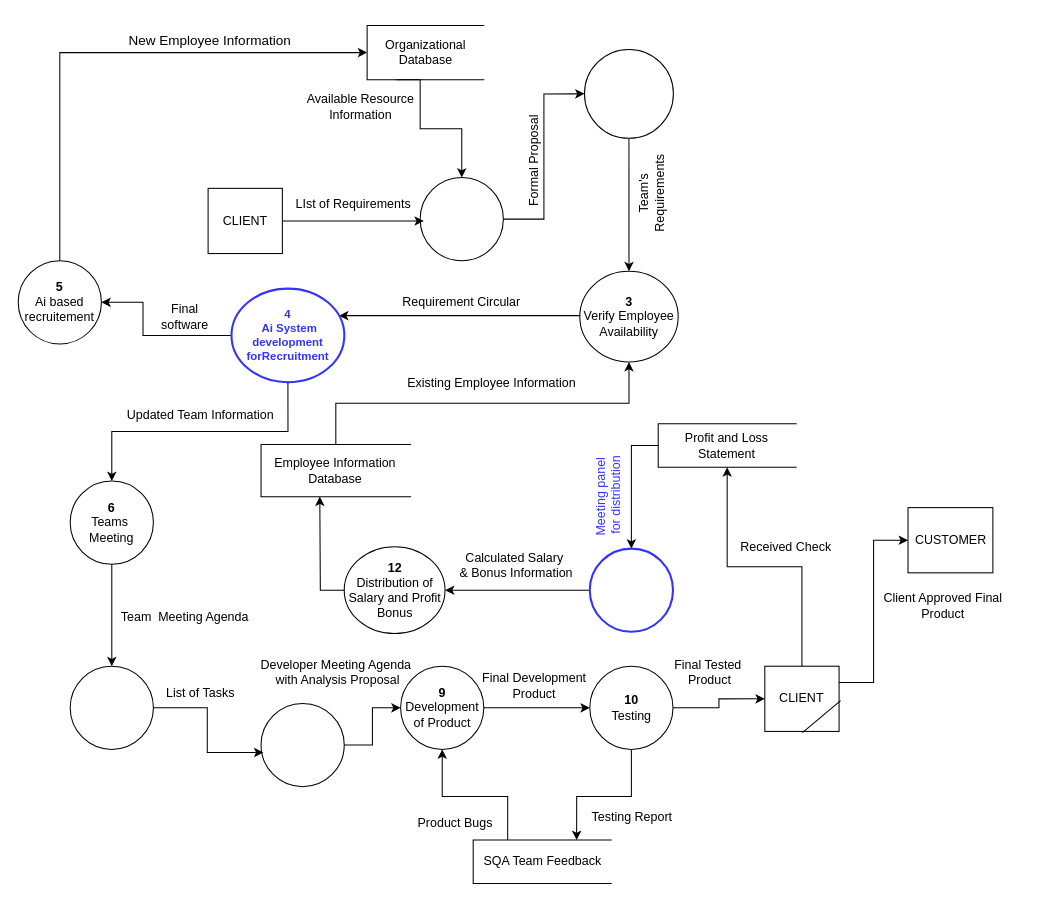
Image size: 1038x902. Some labels were removed from this diagram. Here are the shapes that lost their labels. From the top down, the centre of each, then its label:
the point at 628,93: 2 Team Handover
the point at 461,218: 1 Feasibility Study
the point at 631,589: 11 Discussion on salary & bonus
the point at 111,707: 7 Collection of Information
the point at 302,744: 8 Work Distribution
